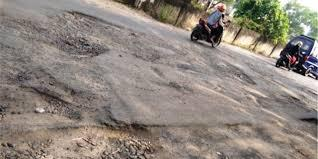Pothole: (27, 8, 258, 92), (0, 124, 318, 159), (0, 62, 104, 128)
